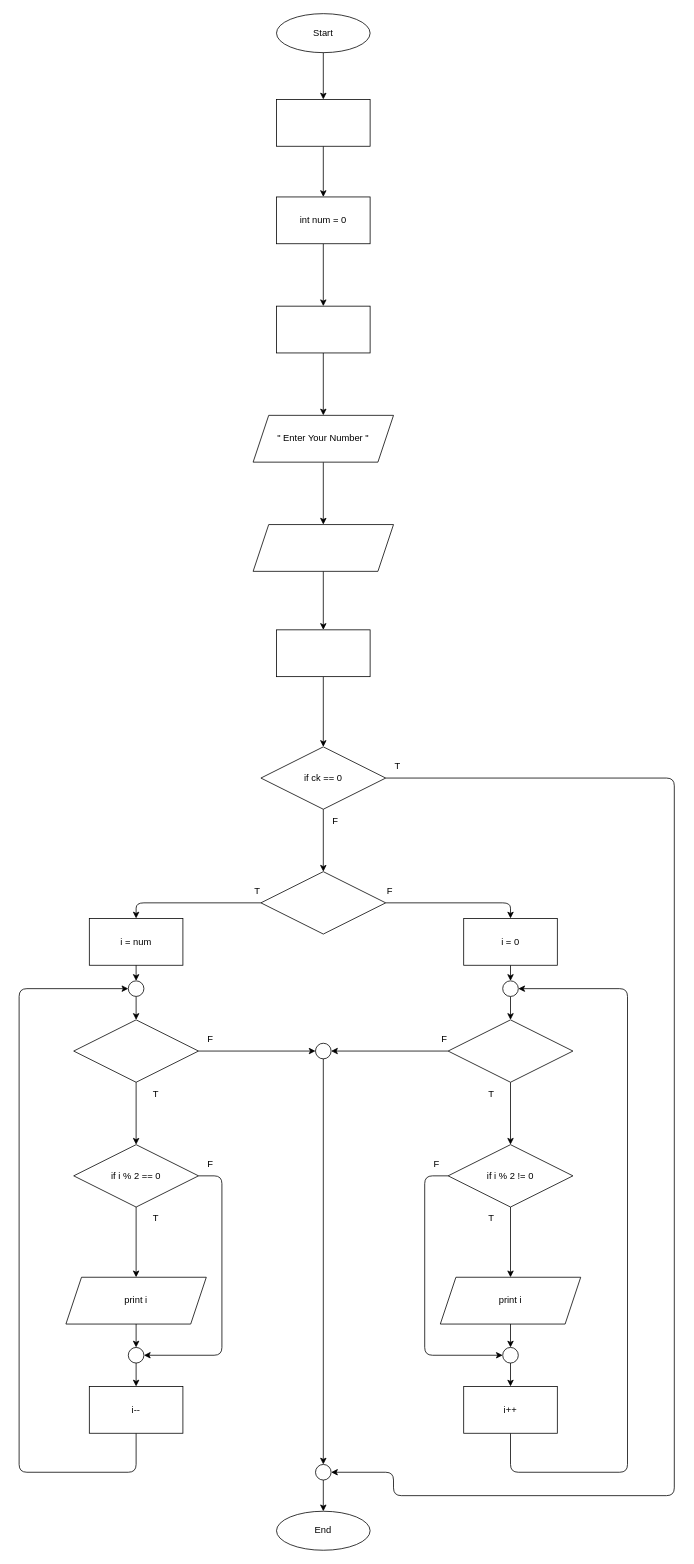
Some shapes in this 694 by 1564 pixel diagram are drawn without their labels. Here are the shapes that lost their labels. From the top down, the box of each, then its label:
(276, 99, 370, 146): int ck = 0
(276, 305, 370, 353): int i = 0
(252, 524, 394, 571): input num
(276, 629, 370, 677): ck = num
(260, 871, 386, 934): if num % 2 == 0
(73, 1019, 199, 1082): if i >= 0
(447, 1019, 573, 1082): if i <= num
